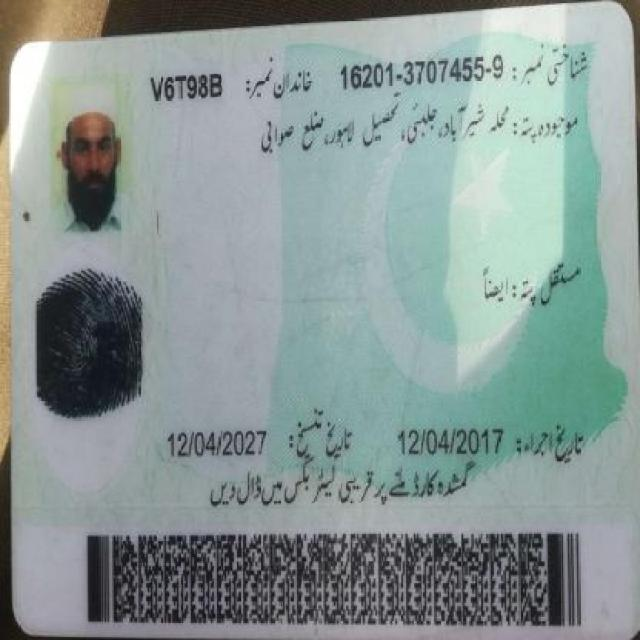Back: (8, 22, 628, 632)
